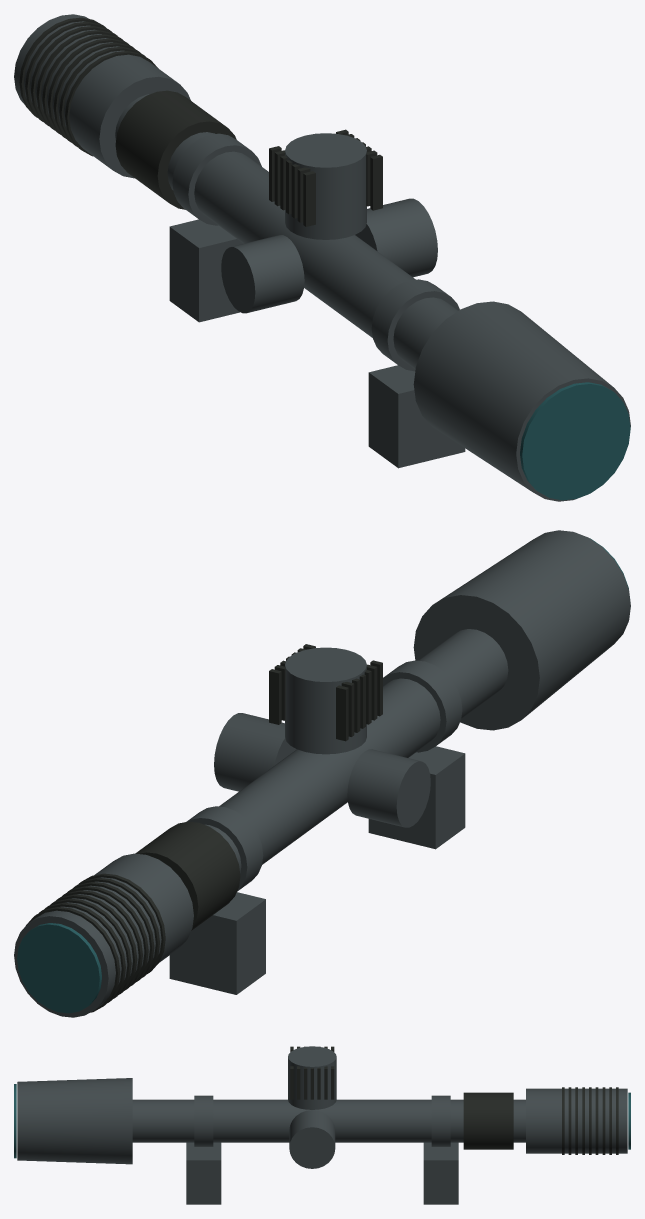
The model's file is scope_survey.glb.
3 views of the same model, one above another, from view 1: azimuth 30°, elevation 25°; view 2: azimuth 150°, elevation 25°; view 3: azimuth 270°, elevation 25° (orthographic). The views are drawn at different scales.
Parts seen in each view (by area): view 1: static_batch_1_0, lens_front, static_batch_1_1, turret_elevation, zoom_ring, parallax_knob, turret_windage; view 2: static_batch_1_0, static_batch_1_1, turret_elevation, lens_rear, zoom_ring, parallax_knob, turret_windage; view 3: static_batch_1_0, static_batch_1_1, zoom_ring, turret_elevation, turret_windage.
Boxes of the visible parts, left/top/right/bottom form: static_batch_1_0: left=14, top=14, right=630, bottom=501; lens_front: left=520, top=382, right=630, bottom=500; static_batch_1_1: left=19, top=17, right=382, bottom=226; turret_elevation: left=285, top=133, right=366, bottom=239; zoom_ring: left=115, top=90, right=236, bottom=209; parallax_knob: left=221, top=235, right=304, bottom=313; turret_windage: left=355, top=198, right=437, bottom=277; static_batch_1_0: left=14, top=530, right=630, bottom=1017; static_batch_1_1: left=26, top=644, right=382, bottom=1012; turret_elevation: left=285, top=647, right=366, bottom=754; lens_rear: left=17, top=923, right=101, bottom=1013; zoom_ring: left=135, top=821, right=240, bottom=930; parallax_knob: left=347, top=749, right=430, bottom=827; turret_windage: left=214, top=713, right=296, bottom=791; static_batch_1_0: left=17, top=1078, right=627, bottom=1204; static_batch_1_1: left=290, top=1046, right=618, bottom=1154; zoom_ring: left=463, top=1092, right=513, bottom=1149; turret_elevation: left=288, top=1046, right=336, bottom=1109; turret_windage: left=289, top=1110, right=335, bottom=1168.
Bounding box in the file's own units: 0.0915 × 0.1125 × 0.455.
